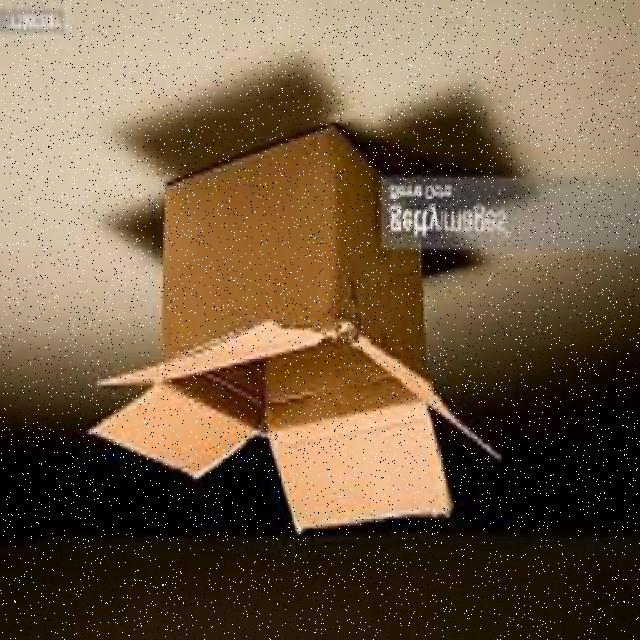defect: (68, 124, 500, 542)
